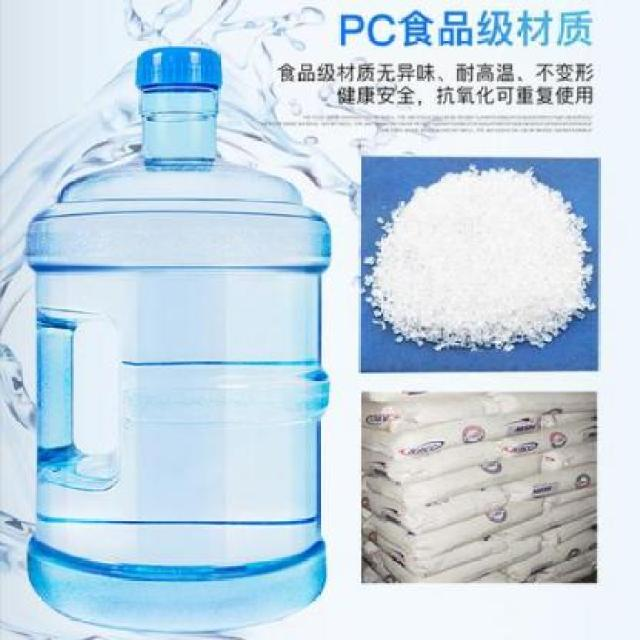coolerbottle: (24, 38, 334, 638)
